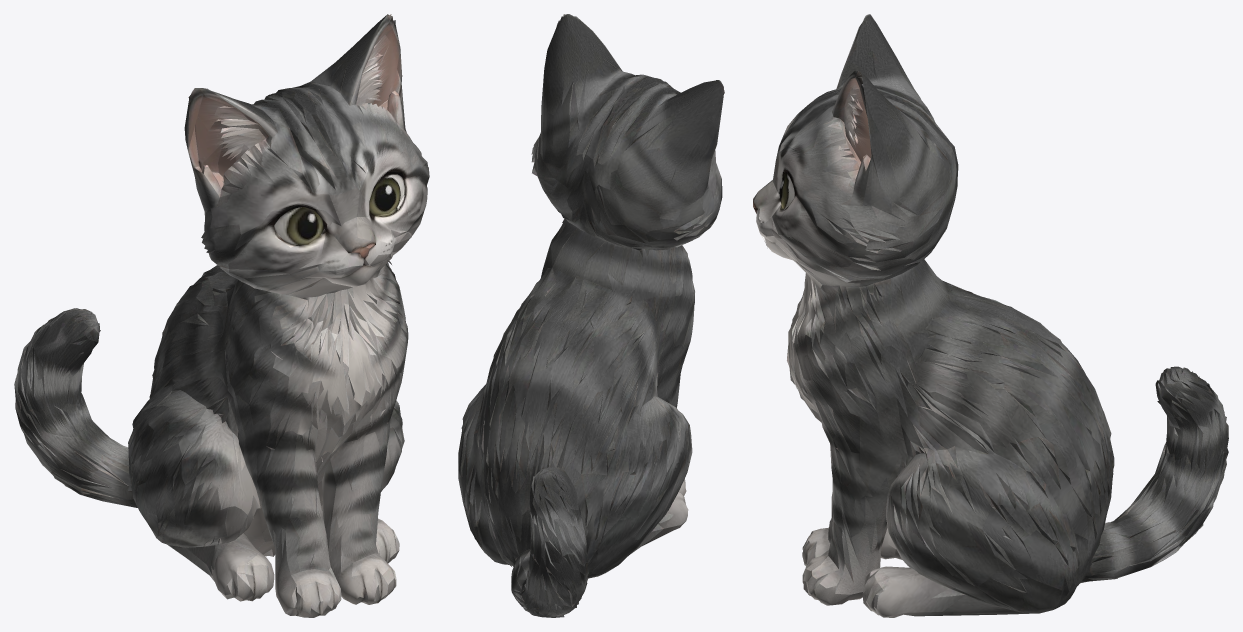
File: acc_cat.glb
3 renders of one model, left to right at view 1: azimuth 30°, elevation 25°; view 2: azimuth 150°, elevation 25°; view 3: azimuth 270°, elevation 25°, orthographic. The views are drawn at different scales.
Visible parts, largest first — view 1: Mesh_0; view 2: Mesh_0; view 3: Mesh_0.
Boxes of the visible parts, box(x1,y1,x2,y2) form: Mesh_0: box(14, 14, 429, 617); Mesh_0: box(458, 14, 724, 617); Mesh_0: box(753, 14, 1228, 617).
Bounding box in the file's own units: 0.8622 × 1.9 × 1.51.
Materials: 1 (1 with a texture image).
